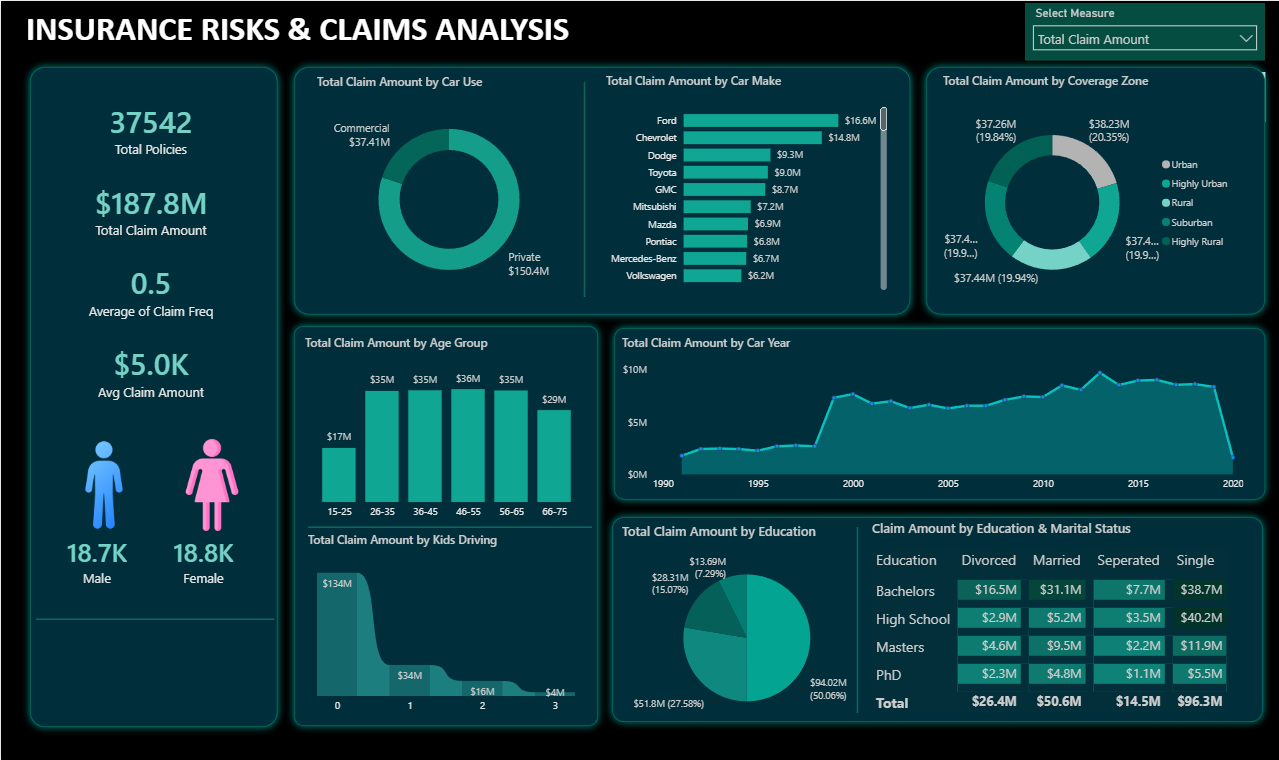

What the dashboard file says about the page in this screenshot:
{"tool":"powerbi","page":{"name":"Page 1","canvas":[1600,950],"ordinal":0},"visuals":[{"type":"shape","box":[753.8,635,833.8,276.2],"z":0},{"type":"textbox","box":[26.7,2.4,712.5,65.7],"z":1000},{"type":"shape","box":[26.7,72.9,329.5,845],"z":2000},{"type":"cardVisual","fields":{"Data":["insurance_data_car.Total Policies","insurance_data_car.Total Claim Amount","Avg(insurance_data_car.Claim Freq)","insurance_data_car.Avg Claim Amount"]},"box":[52.5,88.8,270,447.5],"z":3000},{"type":"cardVisual","fields":{"Data":["insurance_data_car.Male Count","insurance_data_car.Female Count"]},"box":[32.8,570.2,308.8,257.8],"z":4000},{"type":"image","box":[206.7,547.1,115,115],"z":5000},{"type":"image","box":[71.7,547.1,115,115],"z":6000},{"type":"slicer","fields":{"Values":["Select Measure.Select Measure"]},"box":[1297.3,88.8,283.3,62],"z":7000},{"type":"shape","box":[356.2,72.9,790.3,329.5],"z":8000},{"type":"donutChart","fields":{"Category":["insurance_data_car.Car Use"],"Y":["insurance_data_car.Total Claim Amount"]},"box":[390,90,340,285],"z":9000},{"type":"clusteredBarChart","fields":{"Category":["insurance_data_car.Car Make"],"Y":["insurance_data_car.Total Claim Amount"]},"box":[751.2,88.8,361.2,277.5],"z":10000},{"type":"shape","box":[1146.5,72.9,443.8,329.5],"z":11000},{"type":"donutChart","fields":{"Category":["insurance_data_car.Coverage Zone"],"Y":["insurance_data_car.Total Claim Amount"]},"box":[1172.5,88.8,375,295],"z":12000},{"type":"shape","box":[356.2,396.2,400,520],"z":13000},{"type":"clusteredColumnChart","fields":{"Category":["insurance_data_car.Age Group"],"Y":["insurance_data_car.Total Claim Amount"]},"box":[375,416.2,365,240],"z":14000},{"type":"ribbonChart","fields":{"Category":["insurance_data_car.Kids Driving"],"Y":["insurance_data_car.Total Claim Amount"]},"box":[378.8,662.5,355,236.2],"z":15000},{"type":"shape","box":[756.2,398.8,834,234.7],"z":16000},{"type":"stackedAreaChart","fields":{"Category":["insurance_data_car.Car Year"],"Y":["insurance_data_car.Total Claim Amount"]},"box":[770.8,415.8,786.6,205.5],"z":17000},{"type":"pieChart","fields":{"Category":["insurance_data_car.Education"],"Y":["insurance_data_car.Total Claim Amount"]},"box":[770.8,651.7,322.2,257.8],"z":18000},{"type":"pivotTable","title":"Claim Amount by Education & Marital Status","fields":{"Columns":["insurance_data_car.Marital Status"],"Rows":["insurance_data_car.Education"],"Values":["insurance_data_car.Total Claim Amount"]},"box":[1083.8,647.5,463.8,247.5],"z":18001},{"type":"shape","box":[696.2,101.2,66.2,268.8],"z":18002},{"type":"shape","box":[1037.5,657.5,66.2,232.5],"z":18003},{"type":"shape","box":[384.2,622.5,355,70.5],"z":18004},{"type":"slicer","fields":{"Values":["Parameter.Parameter"]},"box":[1280.2,2.4,300.3,71.7],"z":18005},{"type":"shape","box":[43.8,738,297.9,70.5],"z":18006}]}

Visuals, with their boxes in screenshot pixels (x1, y1, x2, y2), scaled from the page's 1600x950 canvas onto the 1279x760 screenshot:
shape: x1=603 y1=508 x2=1269 y2=729
textbox: x1=21 y1=2 x2=591 y2=54
shape: x1=21 y1=58 x2=285 y2=734
cardVisual - insurance_data_car.Total Policies x insurance_data_car.Total Claim Amount: x1=42 y1=71 x2=258 y2=429
cardVisual - insurance_data_car.Male Count x insurance_data_car.Female Count: x1=26 y1=456 x2=273 y2=662
image: x1=165 y1=438 x2=257 y2=530
image: x1=57 y1=438 x2=149 y2=530
slicer - Select Measure.Select Measure: x1=1037 y1=71 x2=1263 y2=121
shape: x1=285 y1=58 x2=916 y2=322
donutChart - insurance_data_car.Car Use x insurance_data_car.Total Claim Amount: x1=312 y1=72 x2=584 y2=300
clusteredBarChart - insurance_data_car.Car Make x insurance_data_car.Total Claim Amount: x1=600 y1=71 x2=889 y2=293
shape: x1=916 y1=58 x2=1271 y2=322
donutChart - insurance_data_car.Coverage Zone x insurance_data_car.Total Claim Amount: x1=937 y1=71 x2=1237 y2=307
shape: x1=285 y1=317 x2=604 y2=733
clusteredColumnChart - insurance_data_car.Age Group x insurance_data_car.Total Claim Amount: x1=300 y1=333 x2=592 y2=525
ribbonChart - insurance_data_car.Kids Driving x insurance_data_car.Total Claim Amount: x1=303 y1=530 x2=587 y2=719
shape: x1=604 y1=319 x2=1271 y2=507
stackedAreaChart - insurance_data_car.Car Year x insurance_data_car.Total Claim Amount: x1=616 y1=333 x2=1245 y2=497
pieChart - insurance_data_car.Education x insurance_data_car.Total Claim Amount: x1=616 y1=521 x2=874 y2=728
"Claim Amount by Education & Marital Status" pivotTable: x1=866 y1=518 x2=1237 y2=716
shape: x1=557 y1=81 x2=609 y2=296
shape: x1=829 y1=526 x2=882 y2=712
shape: x1=307 y1=498 x2=591 y2=554
slicer - Parameter.Parameter: x1=1023 y1=2 x2=1263 y2=59
shape: x1=35 y1=590 x2=273 y2=647
